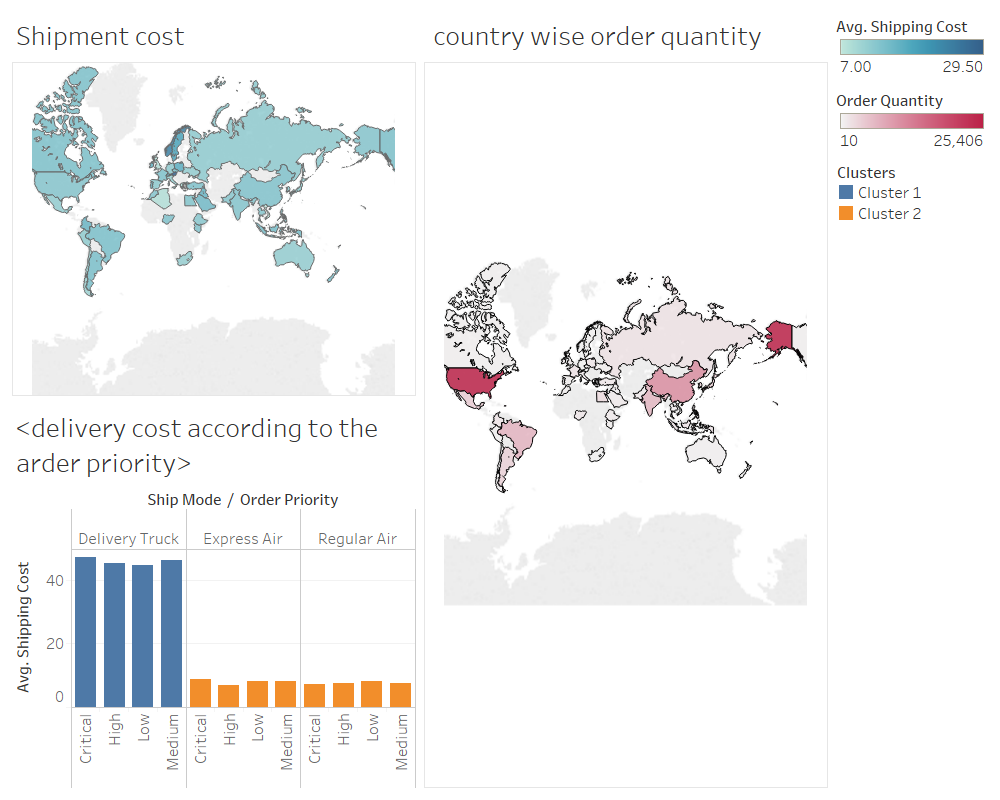

The page's visual inventory and layout, read from the dashboard file:
{"tool":"tableau","page":{"name":"Dashboard 6","canvas":[1000,800],"ordinal":5},"visuals":[{"type":"worksheet","title":"Sheet 2","mark":"Automatic","box":[8,8,412,392]},{"type":"worksheet","title":"Sheet 5","mark":"Automatic","box":[420,8,412,784]},{"type":"legend","title":"Sheet 2","param":"[federated.1t2m9ma0ygvi2v10ffru11um78qy].[avg:Shipping_Cost:qk]","box":[832,8,160,73]},{"type":"legend","title":"Sheet 5","param":"[federated.1t2m9ma0ygvi2v10ffru11um78qy].[sum:Order_Quantity:qk]","box":[832,81,160,73]},{"type":"legend","title":"Sheet 9","param":"[federated.1t2m9ma0ygvi2v10ffru11um78qy].[none:AdhocCluster:1:ok]","box":[832,154,160,72]},{"type":"worksheet","title":"Sheet 9","mark":"Automatic","rows":["Shipping_Cost"],"cols":["Ship_Mode","Order_Priority"],"box":[8,400,412,392]}]}

Visuals, with their boxes in screenshot pixels (x1, y1, x2, y2), scaled from the page's 1000x800 canvas onto the 1000x800 screenshot:
"Sheet 2" worksheet: (8, 8, 420, 400)
"Sheet 5" worksheet: (420, 8, 832, 792)
"Sheet 2" legend: (832, 8, 992, 81)
"Sheet 5" legend: (832, 81, 992, 154)
"Sheet 9" legend: (832, 154, 992, 226)
"Sheet 9" worksheet: (8, 400, 420, 792)
